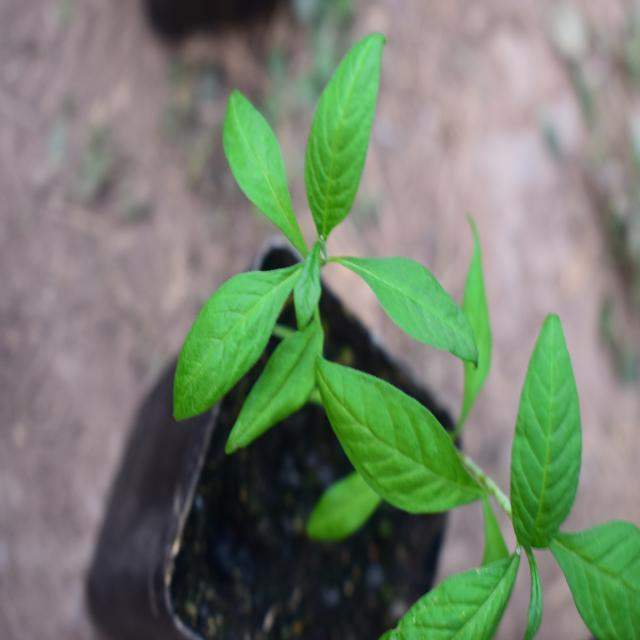white_smart_weed: (157, 27, 495, 444), (323, 323, 635, 637)
